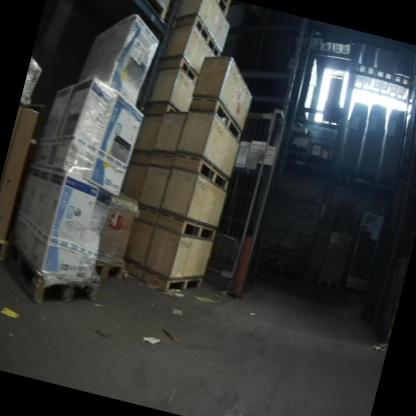pallet: (0, 236, 108, 317), (209, 101, 248, 143), (195, 158, 233, 193), (165, 268, 204, 299), (90, 253, 125, 287), (180, 220, 217, 243), (189, 14, 215, 44), (353, 62, 377, 93), (176, 57, 201, 84), (371, 68, 394, 97), (388, 73, 410, 102), (206, 0, 232, 21), (202, 33, 223, 58), (318, 276, 341, 291), (321, 115, 340, 129), (338, 164, 357, 176), (0, 238, 8, 264)
